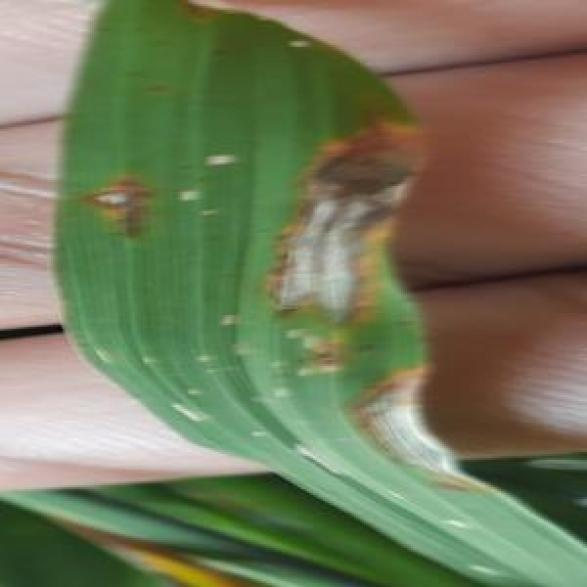Leaf_smut: (260, 112, 421, 360), (331, 338, 485, 503), (60, 156, 146, 231)
